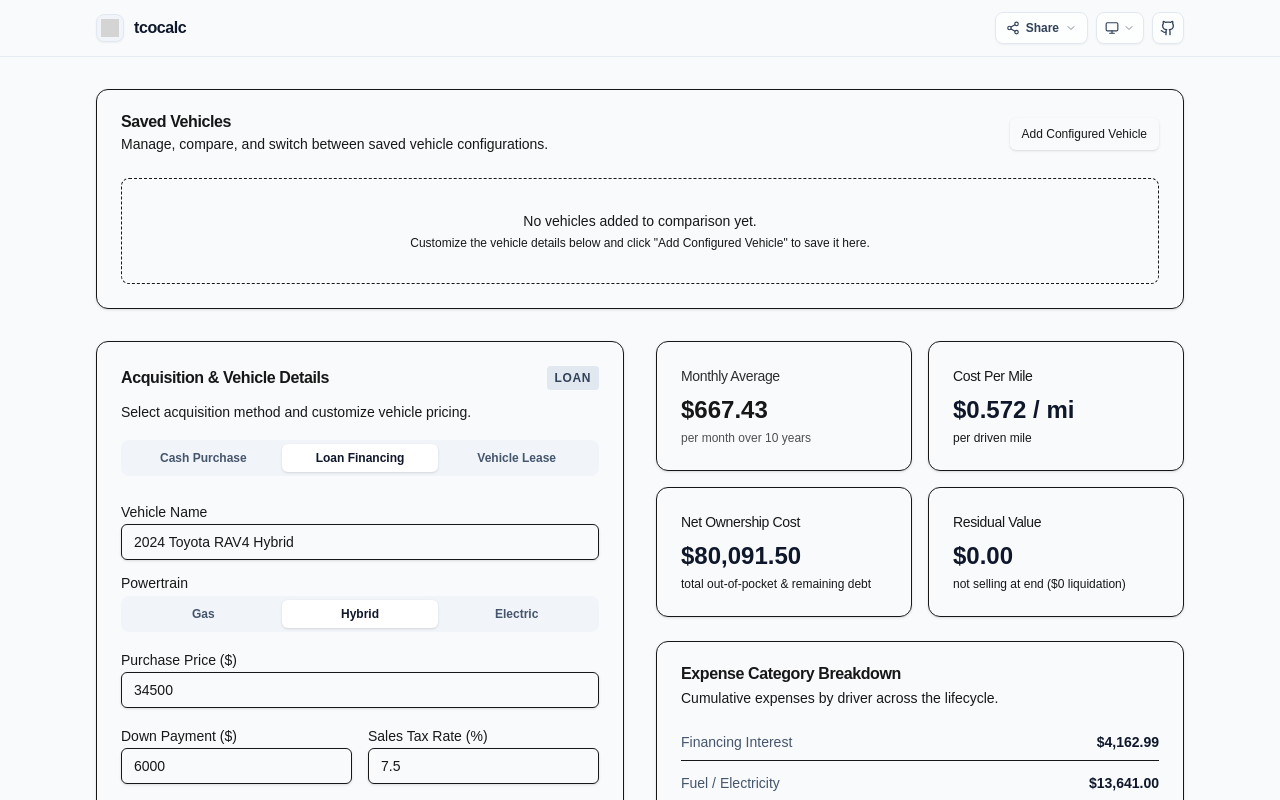
Test case: Home Page Component › switches to Cash Purchase mode and hides loan fields
Click the button "Cash Purchase".
click(203, 458)  # box [125,444,282,472]
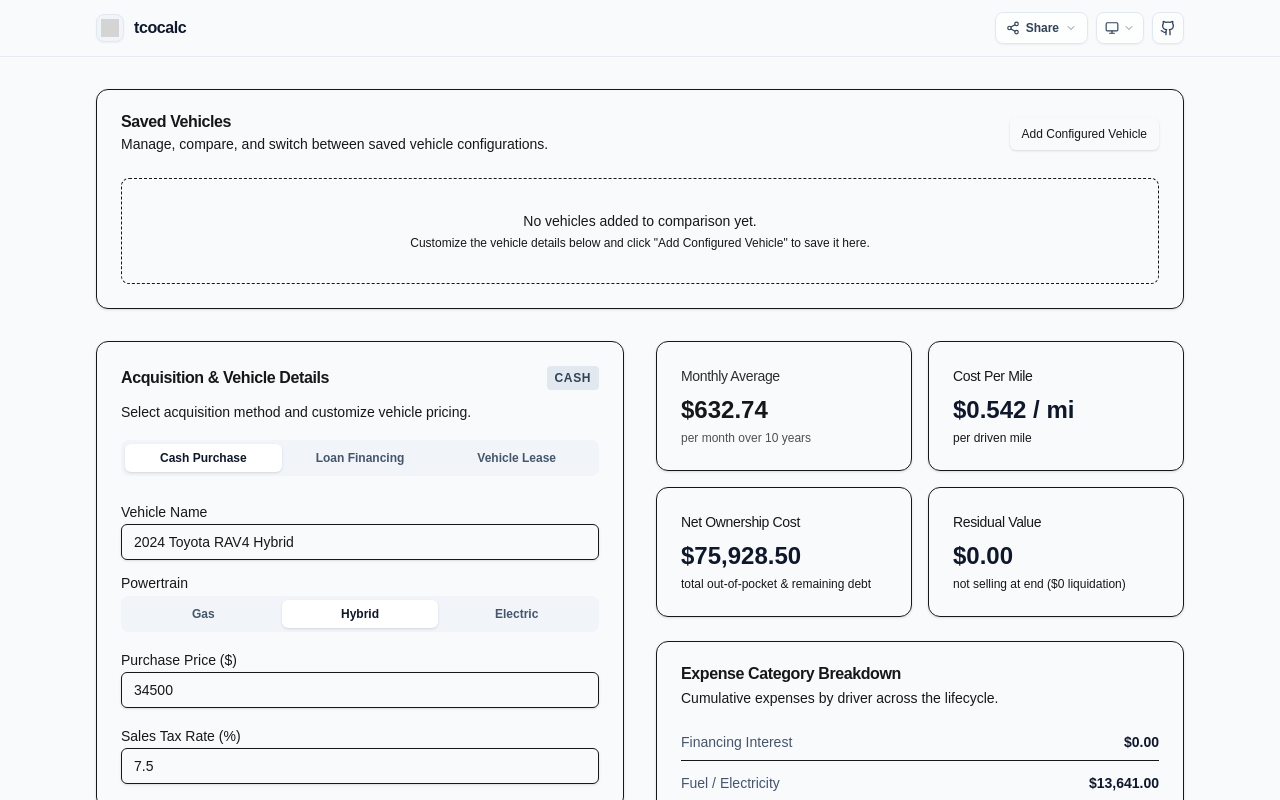
expect the number field labelled "Purchase Price ($)" is shown: met, box [121,672,599,708]
expect the label labelled "Down Payment" is gone: met
